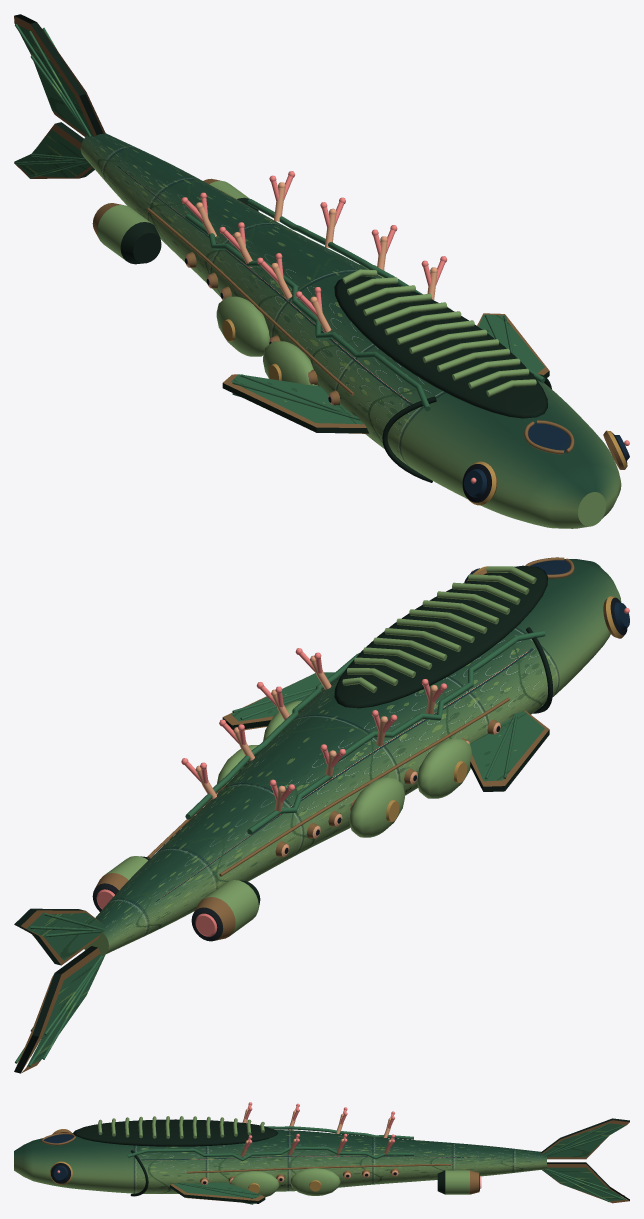
The picture shows the model from 3 angles, top to bottom: view 1: azimuth 30°, elevation 25°; view 2: azimuth 150°, elevation 25°; view 3: azimuth 270°, elevation 25°; orthographic projection. The views are drawn at different scales.
Visible parts, largest first — view 1: remora_hull; view 2: remora_hull; view 3: remora_hull.
Part boxes in pixels (bbox=[...]): remora_hull: bbox=[14, 14, 629, 528]; remora_hull: bbox=[14, 557, 629, 1073]; remora_hull: bbox=[14, 1102, 629, 1204].
Size of the model in its own units: 10.78 by 5.66 by 38.
1 material, 1 textured.
